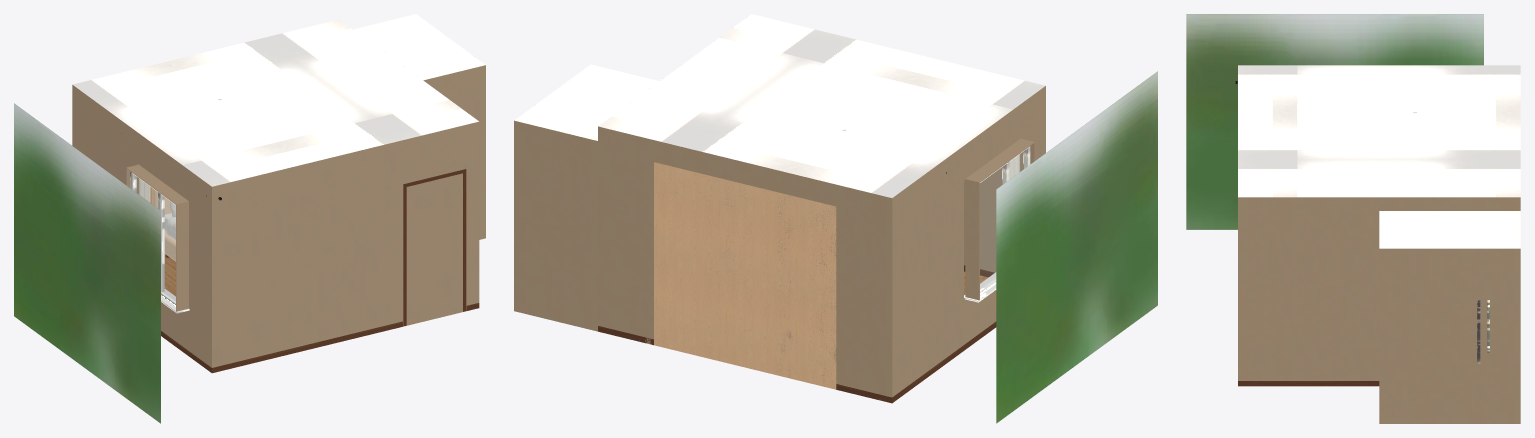
The model's file is room-preview.glb.
3 renders of one model, left to right at view 1: azimuth 30°, elevation 25°; view 2: azimuth 150°, elevation 25°; view 3: azimuth 270°, elevation 25°, orthographic. The views are drawn at different scales.
Parts seen in each view (by area): view 1: Shell_Front Wall, Shell_Ceiling, Garden, Shell_Left Wall, Shell_Closet Ceiling, LM_Window, Shell_Closet Front Wall, Window Glass, LM_Skirting, LM_Door, LM_Bed; view 2: Shell_Ceiling, Garden, LM_Panel, Shell_Back Wall, Shell_Left Wall, Shell_Closet Back Wall, Shell_Closet Ceiling, LM_Window, Window Glass, Shell_Front Wall, LM_Skirting; view 3: Shell_Ceiling, Shell_Right Wall, Shell_Closet Far Wall, Garden, Shell_Closet Ceiling, LM_Skirting, LM_Closet.
Boxes of the visible parts, x1,y1,x2,y2 form: Shell_Front Wall: (212, 121, 479, 367); Shell_Ceiling: (72, 19, 478, 186); Garden: (14, 103, 160, 423); Shell_Left Wall: (72, 85, 211, 367); Shell_Closet Ceiling: (354, 14, 485, 80); LM_Window: (126, 164, 221, 313); Shell_Closet Front Wall: (423, 65, 485, 239); Window Glass: (135, 176, 175, 300); LM_Skirting: (161, 303, 479, 373); LM_Door: (403, 169, 466, 326); LM_Bed: (153, 188, 175, 261); Shell_Ceiling: (598, 14, 1045, 197); Garden: (996, 71, 1157, 423); LM_Panel: (654, 162, 836, 389); Shell_Back Wall: (598, 126, 892, 400); Shell_Left Wall: (892, 86, 1045, 396); Shell_Closet Back Wall: (514, 120, 597, 331); Shell_Closet Ceiling: (514, 64, 659, 140); LM_Window: (946, 138, 1034, 302); Window Glass: (980, 151, 1024, 288); Shell_Front Wall: (964, 167, 1001, 272); LM_Skirting: (598, 265, 996, 403); Shell_Ceiling: (1238, 65, 1520, 197); Shell_Right Wall: (1238, 197, 1520, 380); Shell_Closet Far Wall: (1379, 248, 1520, 423); Garden: (1186, 14, 1483, 229); Shell_Closet Ceiling: (1379, 211, 1520, 248); LM_Skirting: (1238, 381, 1379, 386); LM_Closet: (1477, 300, 1489, 364).
Bounding box in the file's own units: 6.62 × 3.2 × 4.49.
80 materials, 34 textured.
